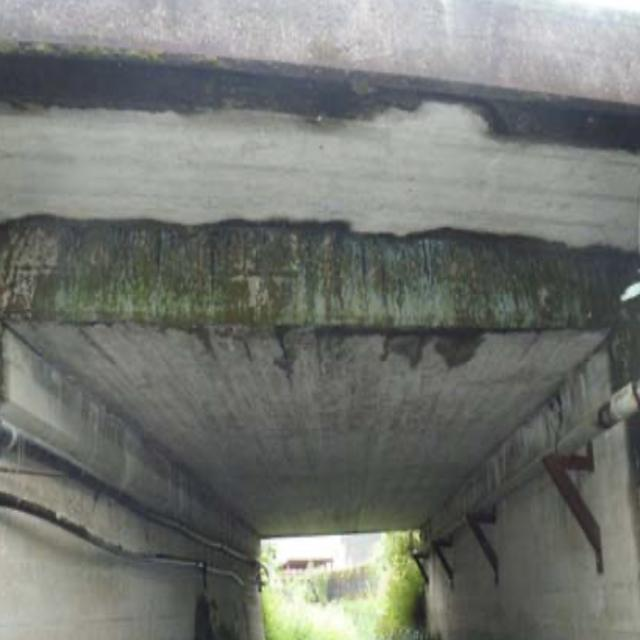leakage: (9, 200, 632, 356), (10, 34, 640, 167)
